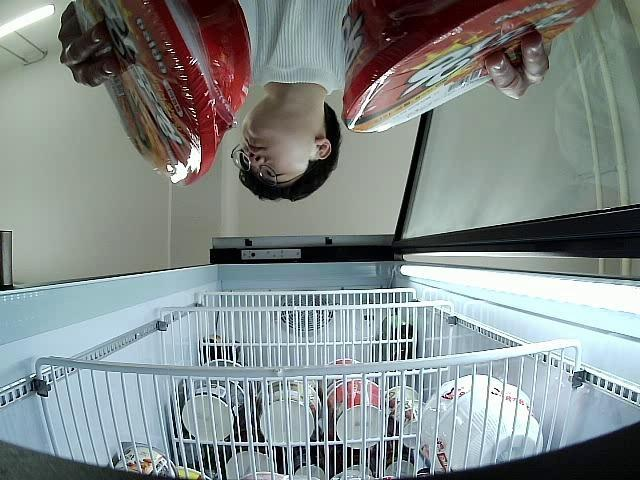10_wangTtukkeong: (340, 0, 600, 133), (71, 0, 252, 186)
